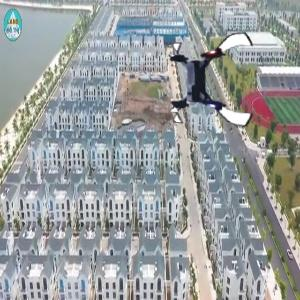drone: (165, 31, 262, 128)
